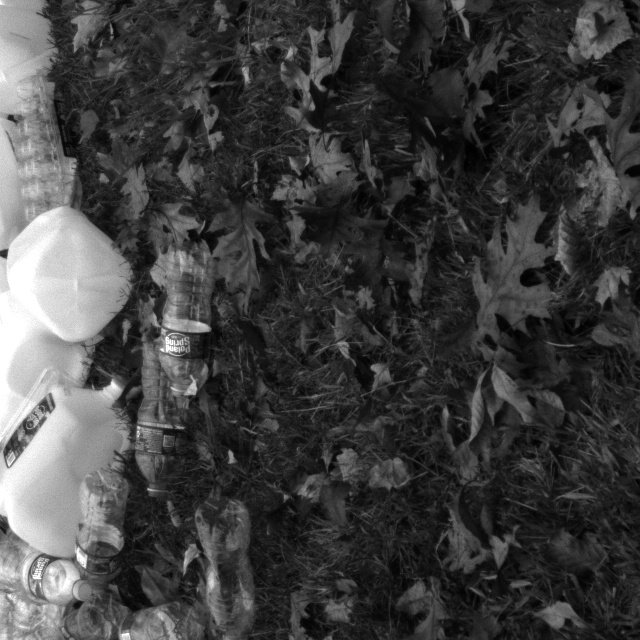bottle: (128, 338, 194, 503), (151, 241, 218, 402), (193, 495, 256, 640), (64, 470, 128, 608)
can: (0, 371, 133, 562), (4, 204, 136, 341), (0, 0, 59, 111)
container: (6, 69, 86, 231)
